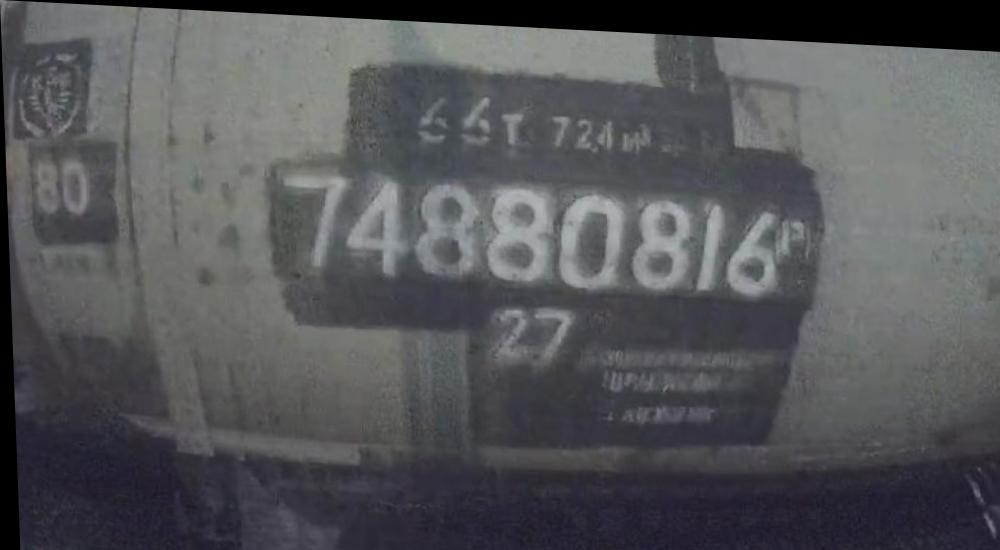Wagon-number: (279, 162, 785, 301)
